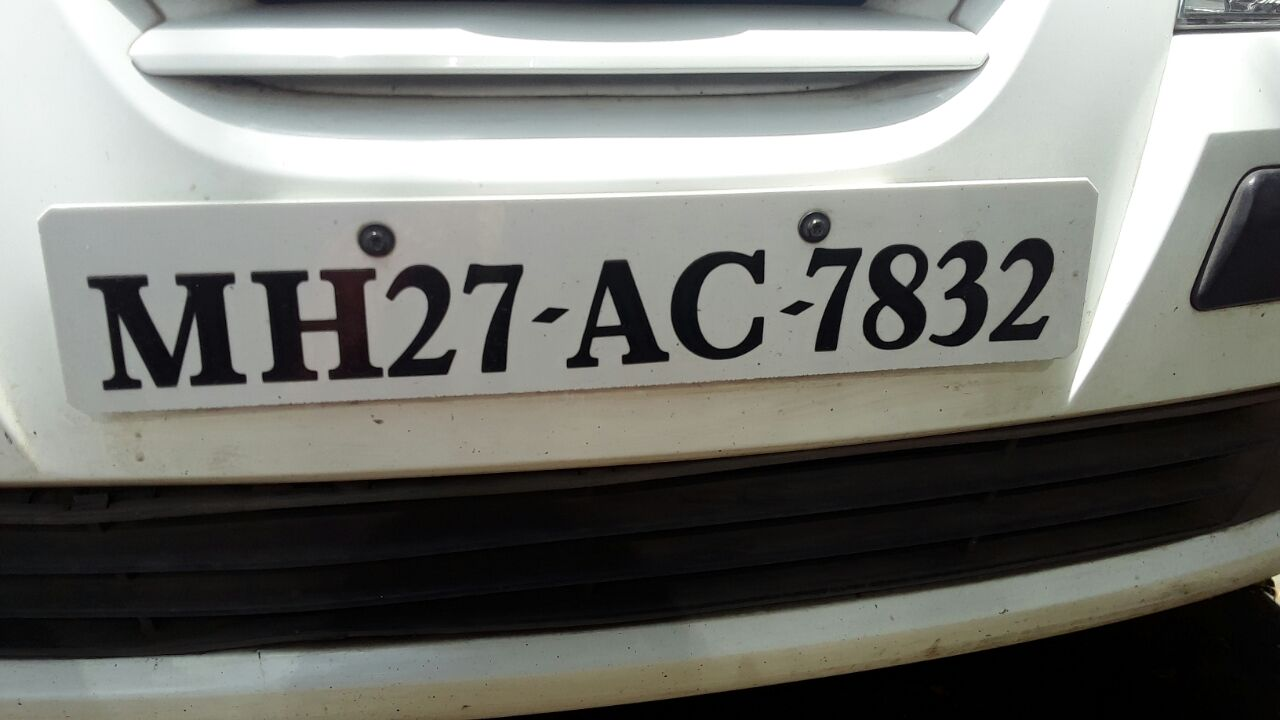licenseplate: (39, 168, 1102, 418)
